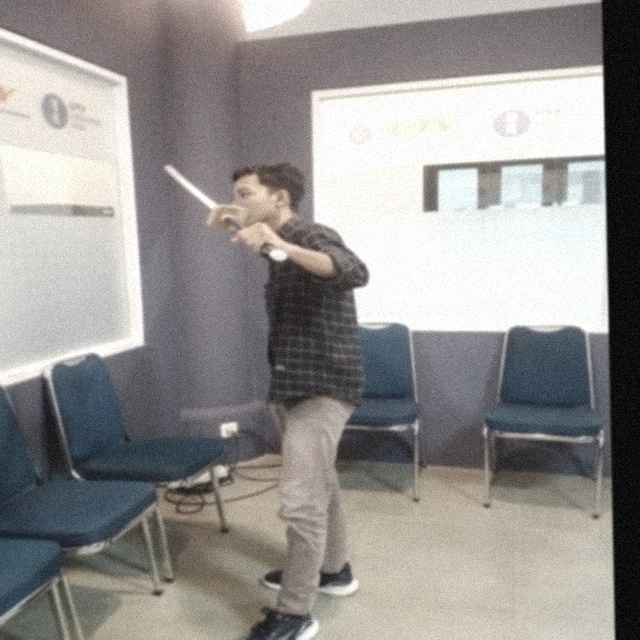Sharp-Object: (149, 151, 294, 278)
